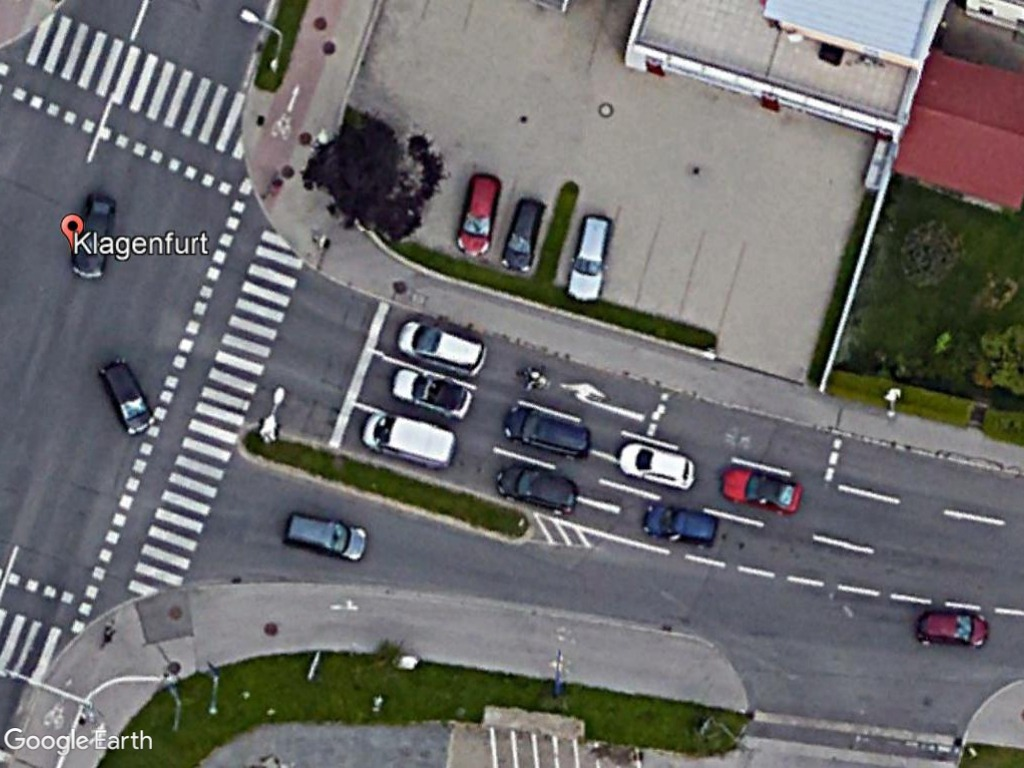car: (499, 401, 596, 464), (394, 317, 488, 377), (489, 460, 583, 518), (94, 353, 158, 436), (562, 208, 617, 304), (280, 509, 370, 565), (388, 365, 475, 421), (716, 464, 805, 518), (451, 172, 504, 258), (70, 192, 117, 283), (496, 194, 547, 277), (614, 439, 696, 490), (640, 501, 720, 547), (910, 608, 991, 649)
van: (359, 408, 459, 471)
